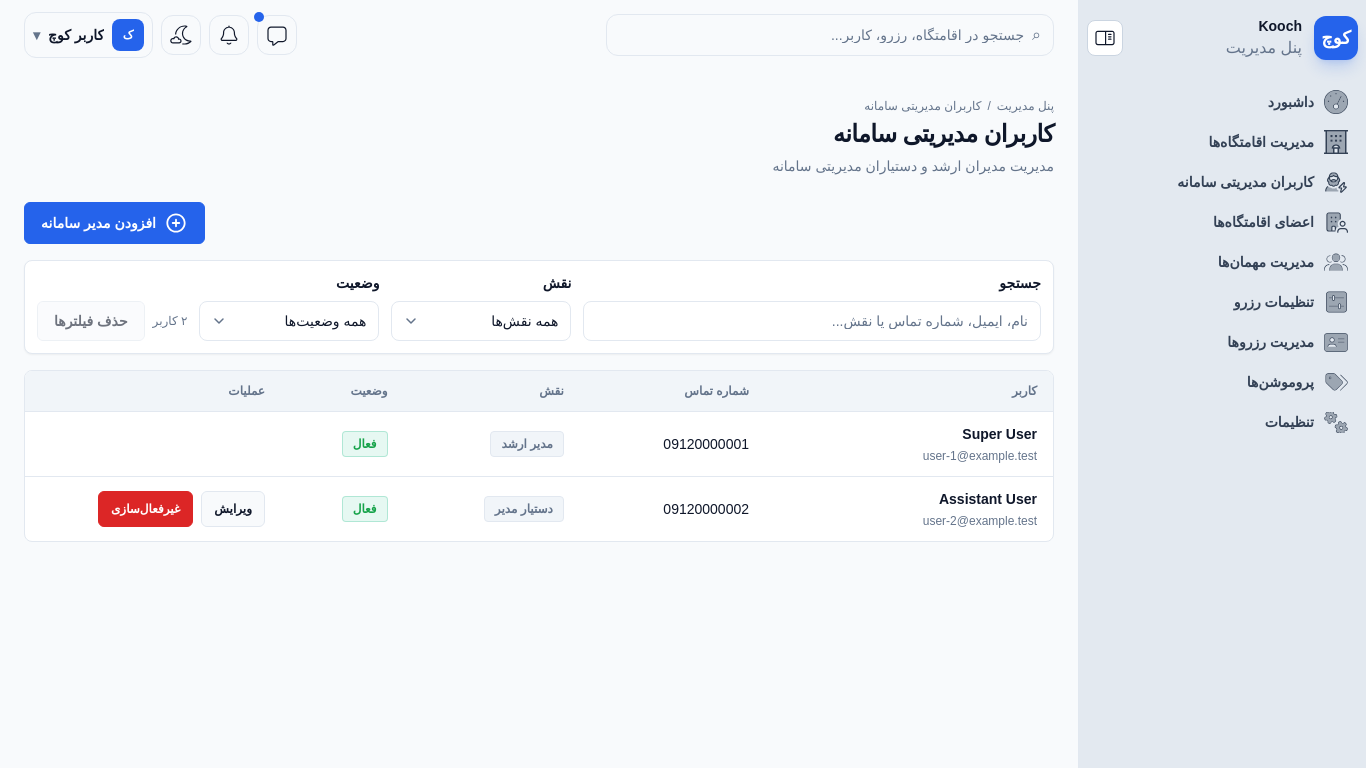
Scenario: Admin Users page › restricts an AdminAssistant to assignable roles and permissions while editing
The image size is (1366, 768).
Expected: the text "Super User" is shown, [962,426,1037,442]
Click the button "ویرایش" at (233, 509), box [201,491,265,527]
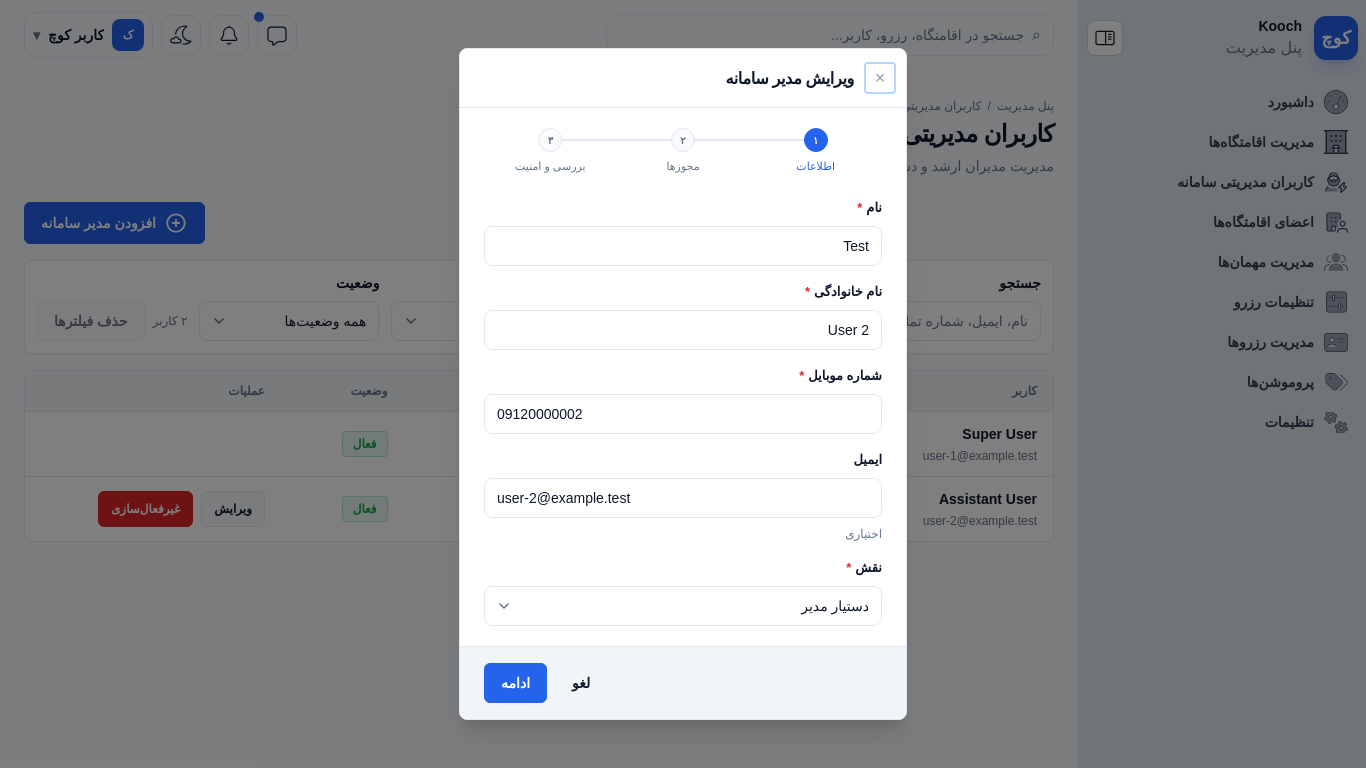
Result: the heading "ویرایش مدیر سامانه" is shown at [726,69,854,87]
Replace the text in the field with id "admin-user-first-name" with "Edited" at (683, 246), box [484,226,882,266]
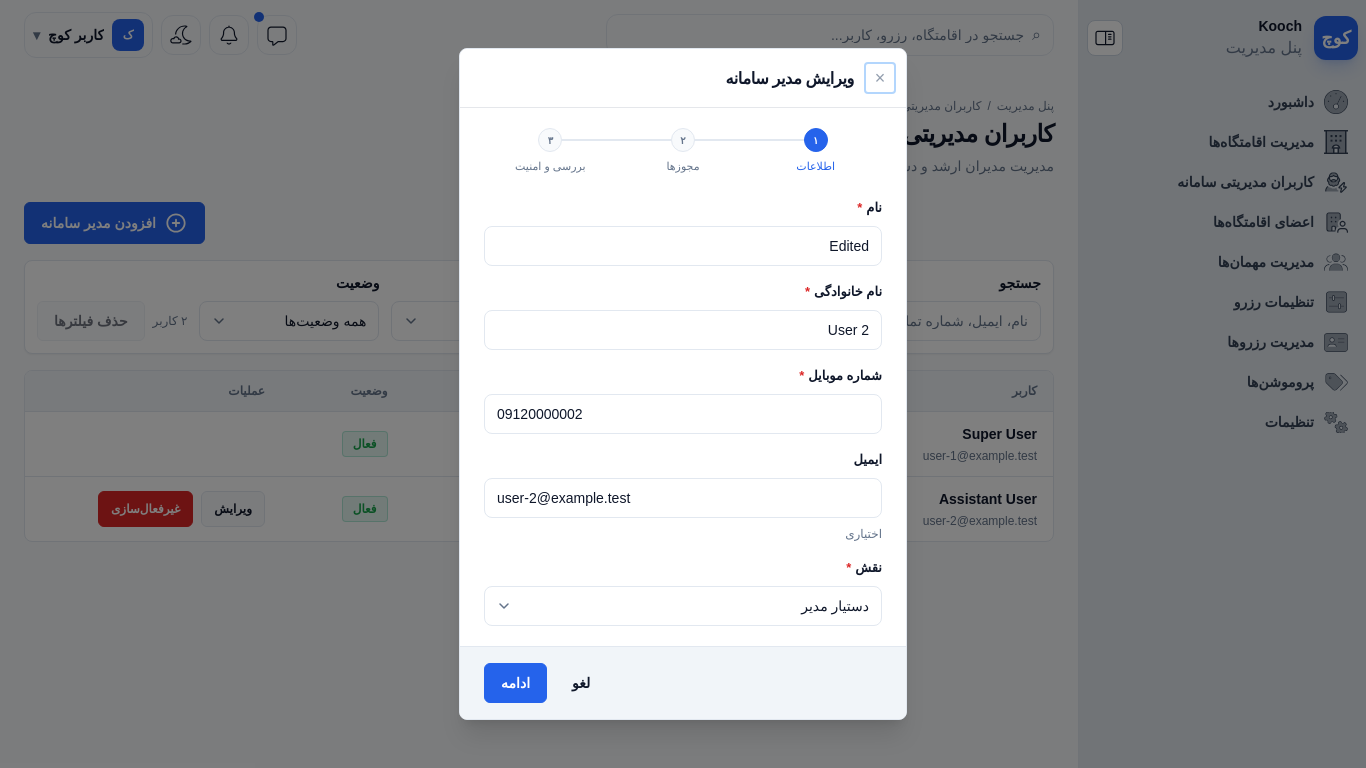
Click the button "ادامه" at (516, 683), box [484,663,547,703]
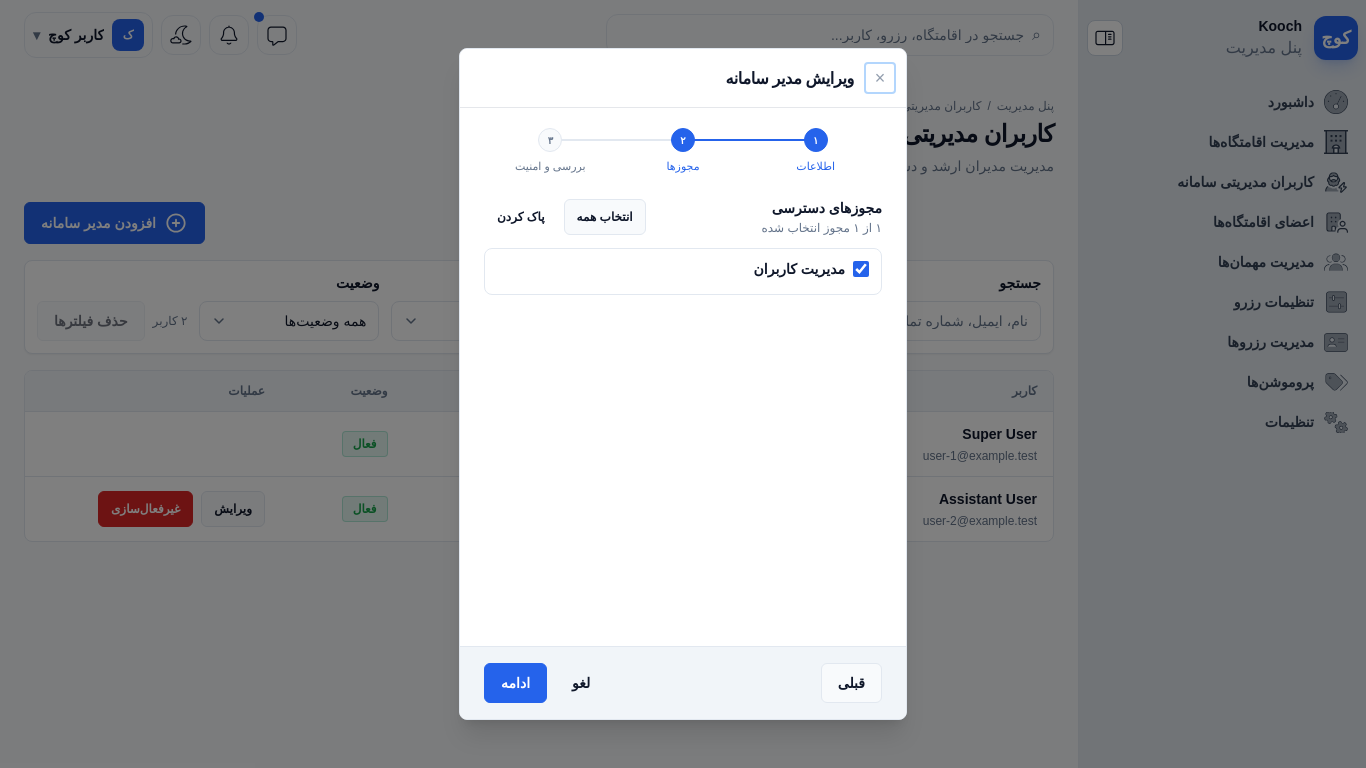
Result: the checkbox labelled "مدیریت کاربران" is shown at [853,261,869,277]
Click the button "ادامه" at (516, 683), box [484,663,547,703]
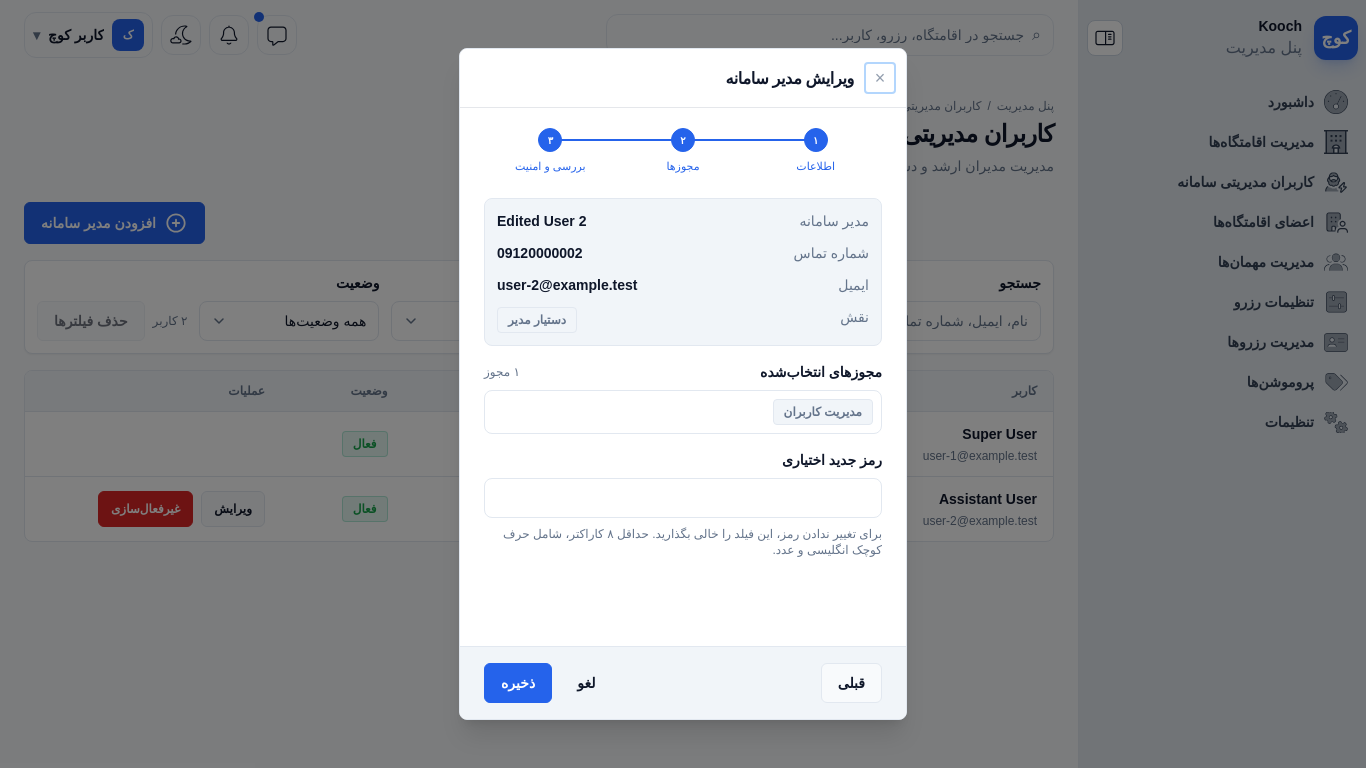
Click the button "ذخیره" at (518, 683), box [484,663,552,703]
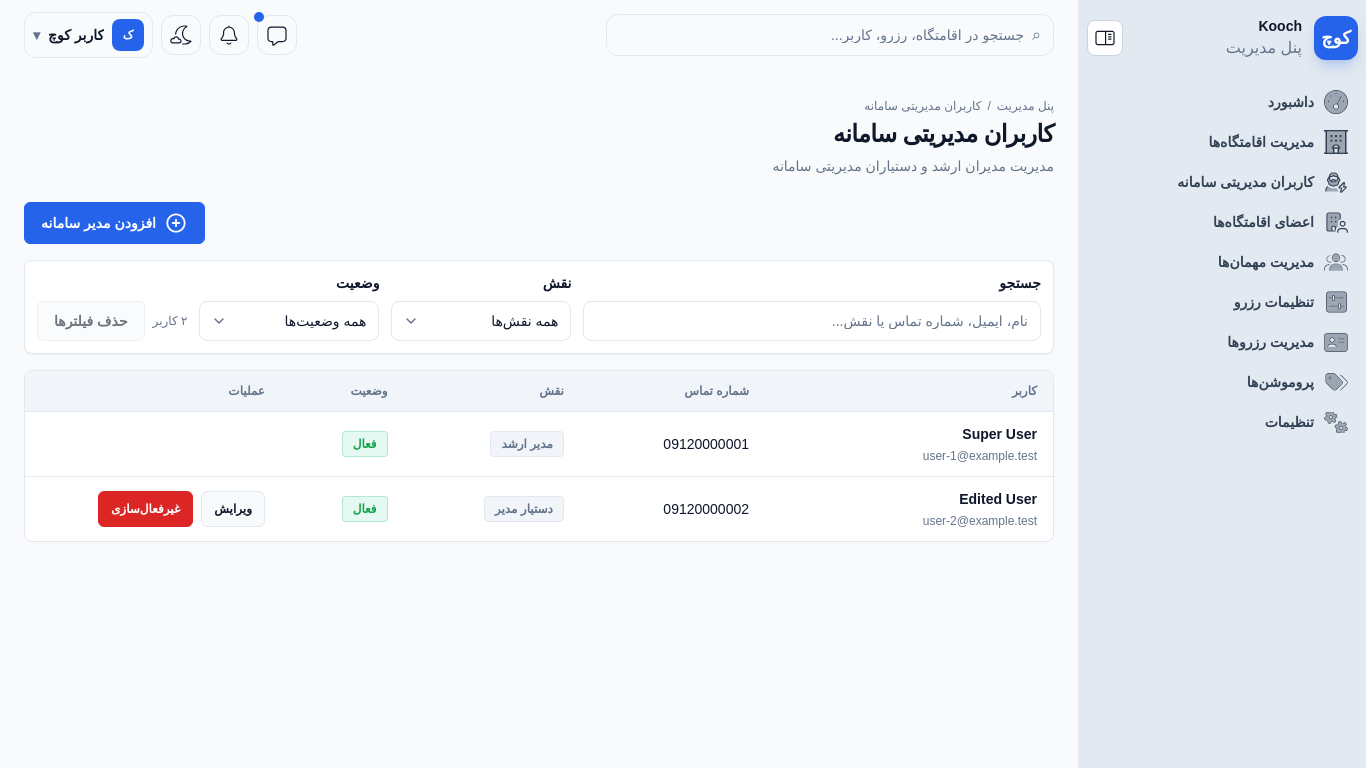
Result: the text "Edited User" is shown at [959,491,1037,507]
